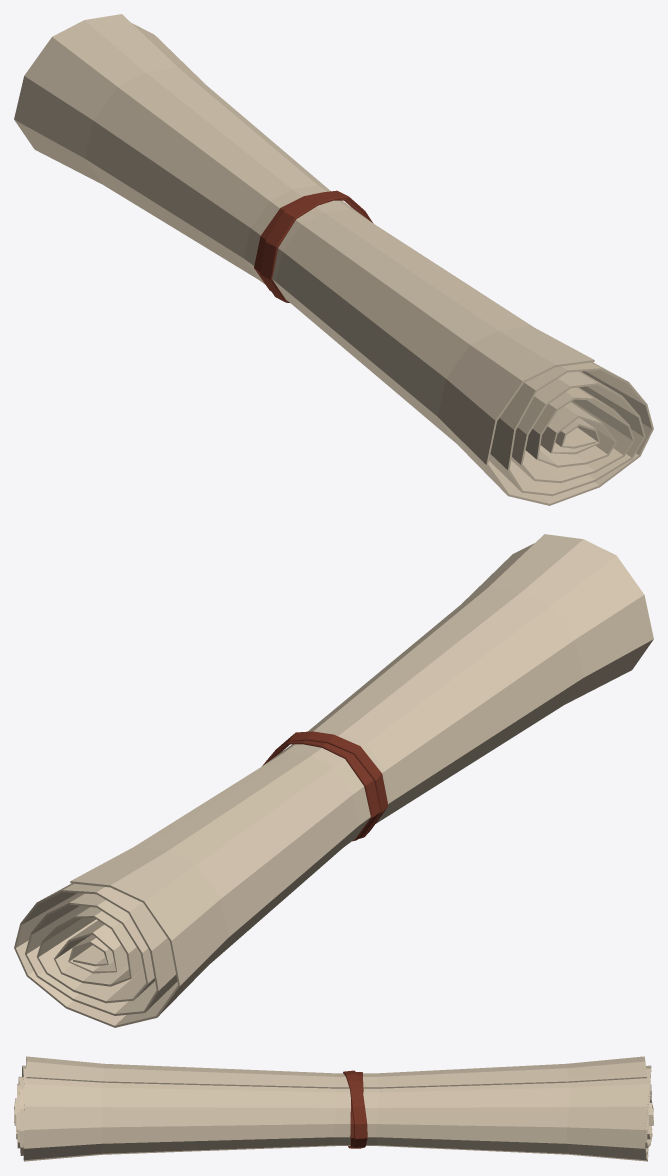
File: Scroll_2.fbx
The picture shows the model from 3 angles, top to bottom: view 1: azimuth 30°, elevation 25°; view 2: azimuth 150°, elevation 25°; view 3: azimuth 270°, elevation 25°; orthographic projection. The views are drawn at different scales.
Visible parts, largest first — view 1: Scroll_2; view 2: Scroll_2; view 3: Scroll_2.
Boxes of the visible parts, <box> form: Scroll_2: <box>14,14,653,505</box>; Scroll_2: <box>14,534,653,1027</box>; Scroll_2: <box>14,1056,653,1161</box>.
Size of the model in its own units: 9.22 by 46.8 by 7.35.
